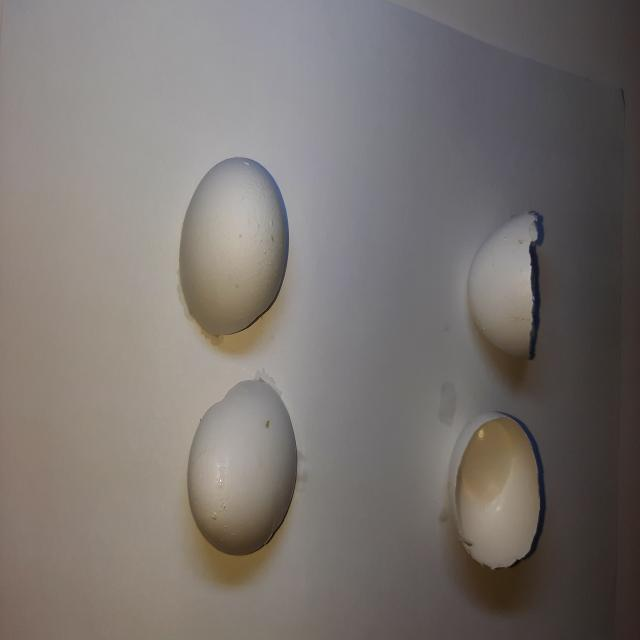egg shell: (183, 366, 315, 568), (176, 146, 296, 350), (438, 394, 555, 591), (462, 200, 559, 370)
